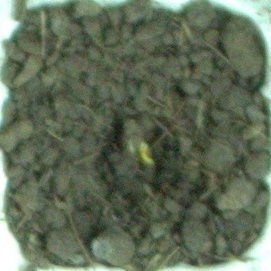pepper seed: (54, 53, 215, 225)
